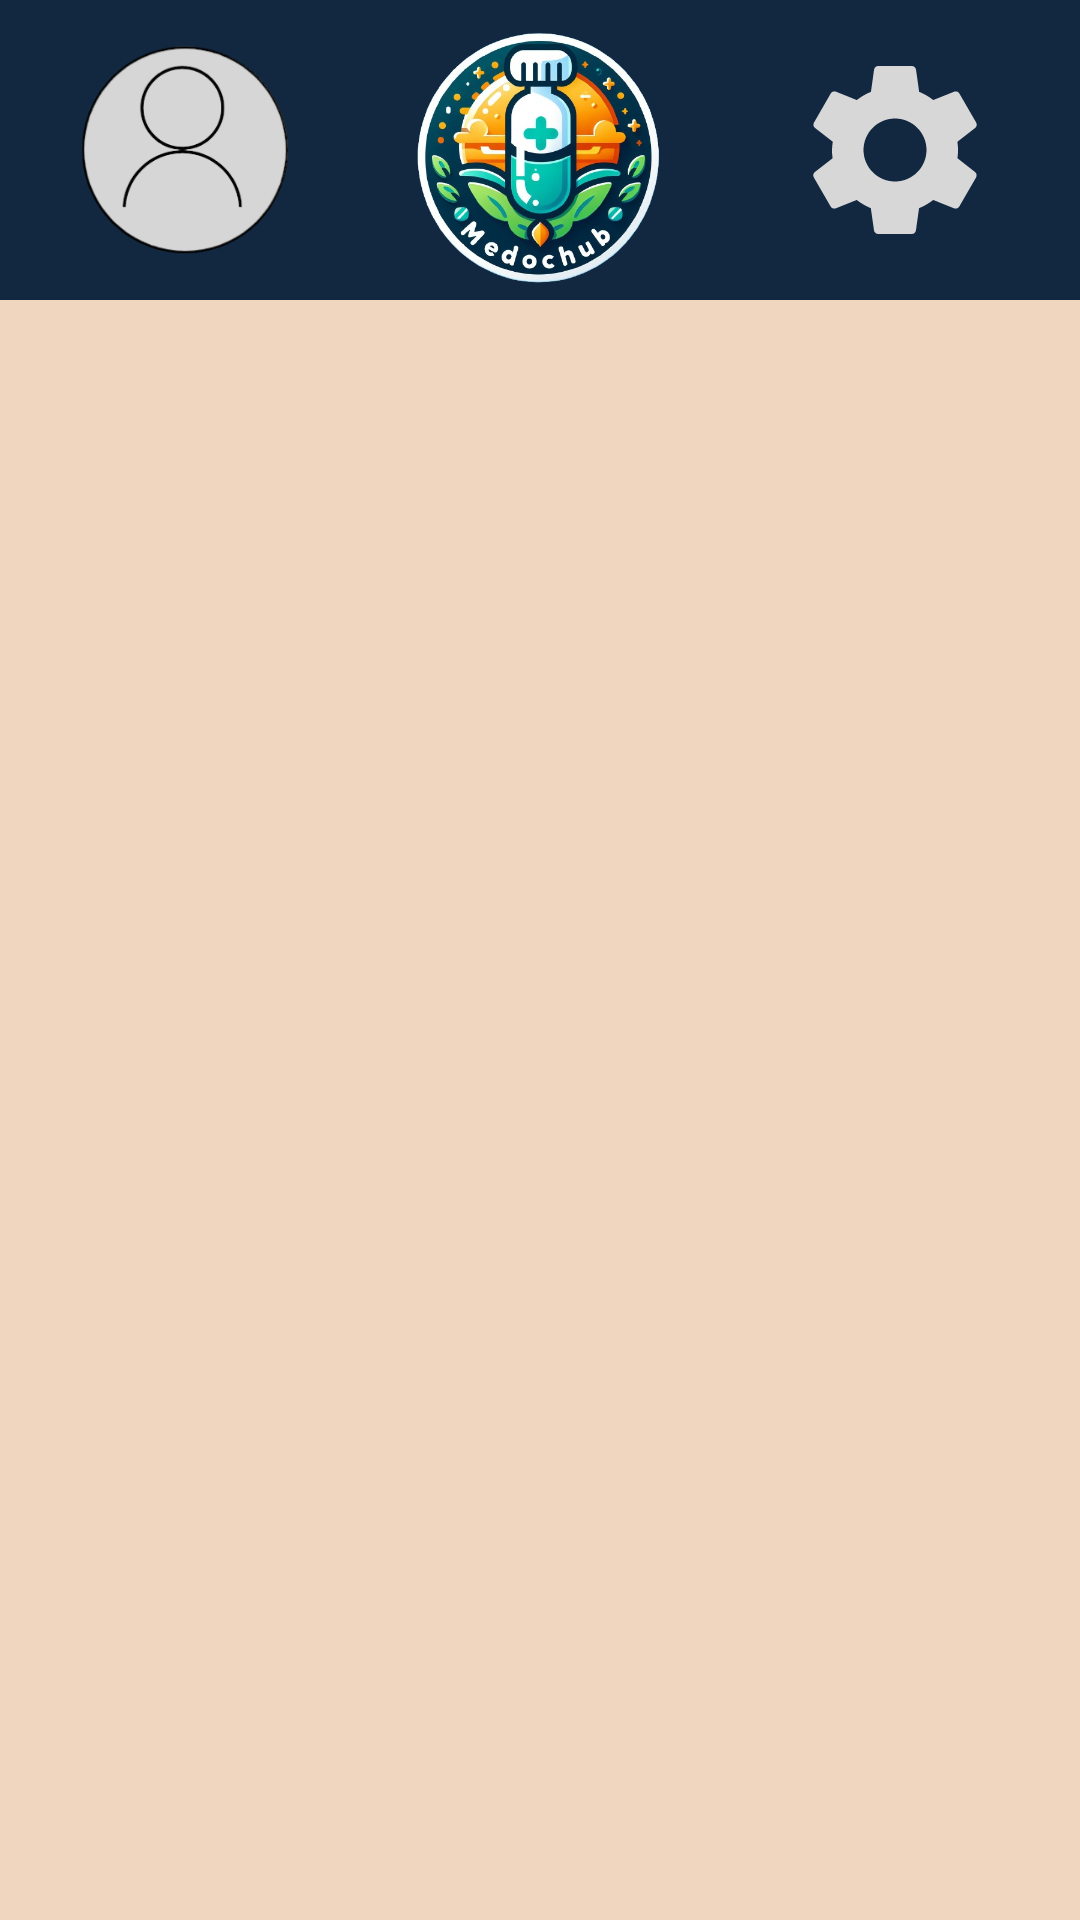

Icons on this 1080x1920 Android screen, each with its box as (x1, y1, x2, y2):
settings: (813, 66, 977, 234)
